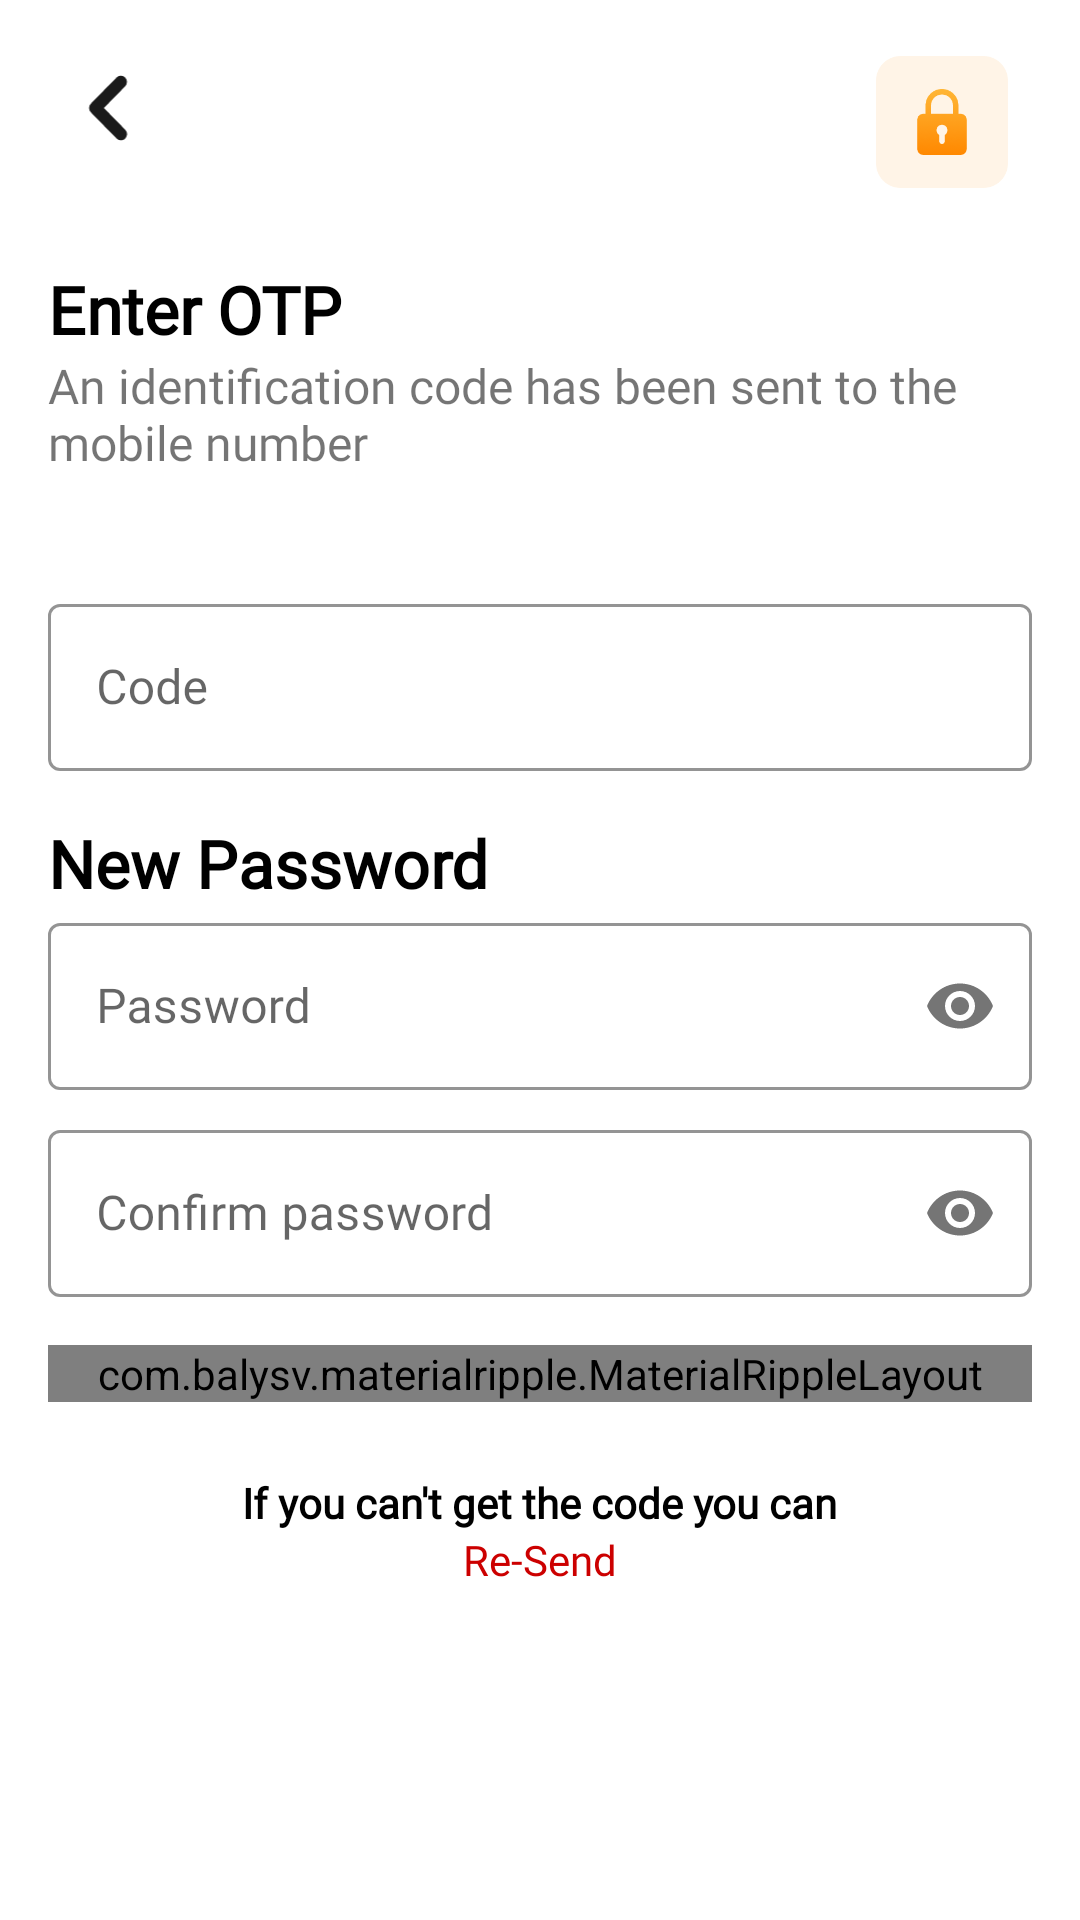

Locate icon controls on the screen. Image size 1080x1920, boxes as (x1, y1, x2, y2).
back: (88, 75, 128, 141)
lock: (917, 89, 967, 155)
